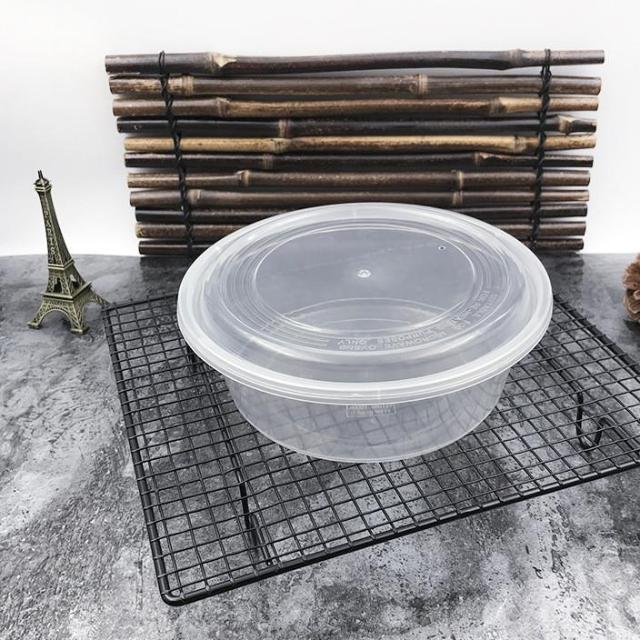plastic_box: (176, 199, 554, 461)
